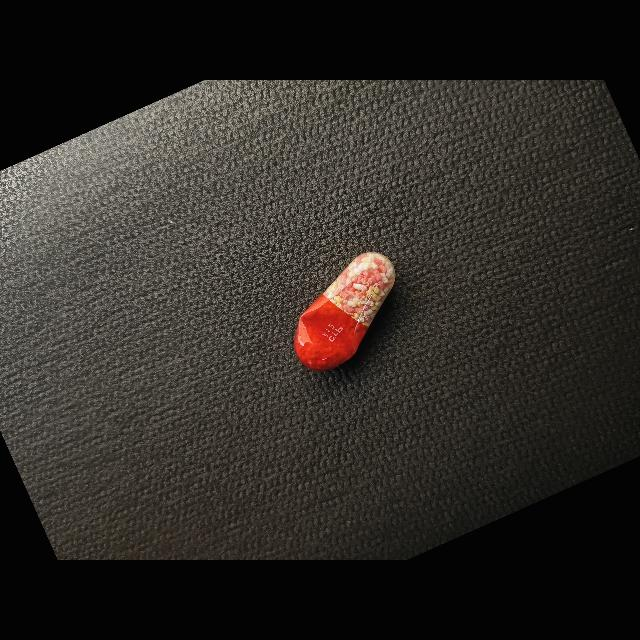Defective Capsule: (294, 252, 395, 371)
